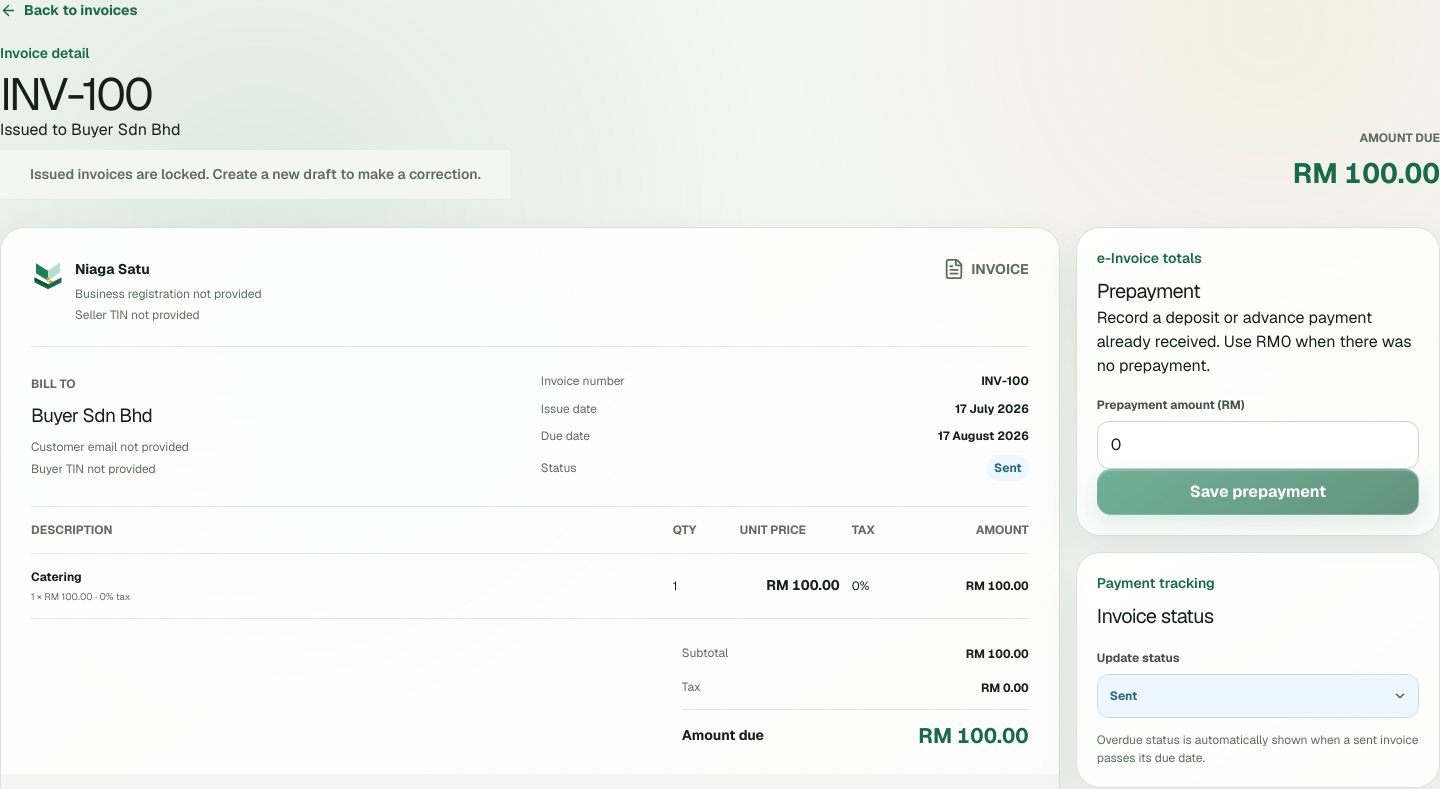
Scenario: InvoiceDetail prepayment › allows a prepayment to be added to an existing sent source invoice
The width and height of the screenshot is (1440, 789).
Replace the text in the number field labelled "Prepayment amount (RM)" with "25" at (1258, 445), box [1097,421,1419,469]
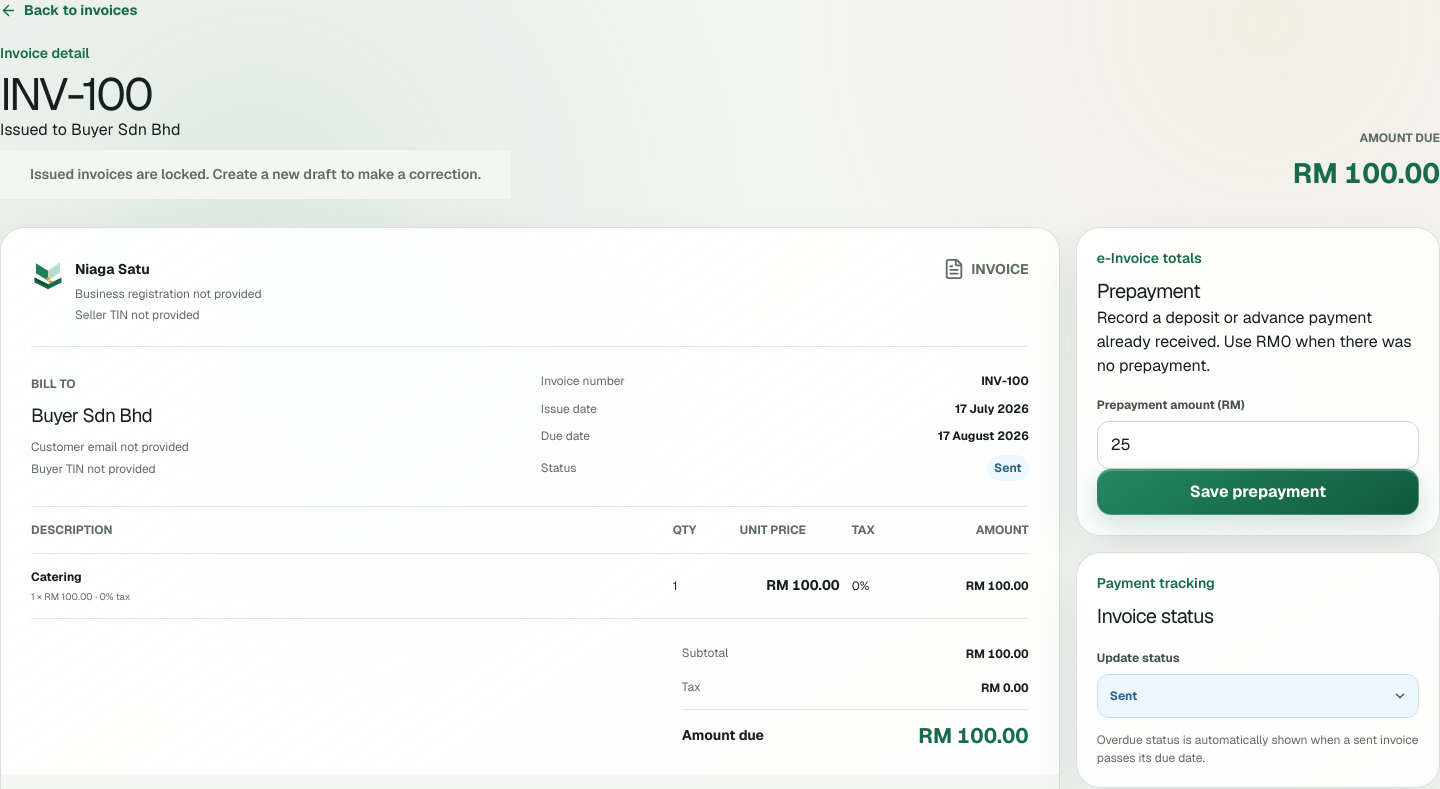
Click the button "Save prepayment".
click(1258, 492)  # box [1097,469,1419,515]
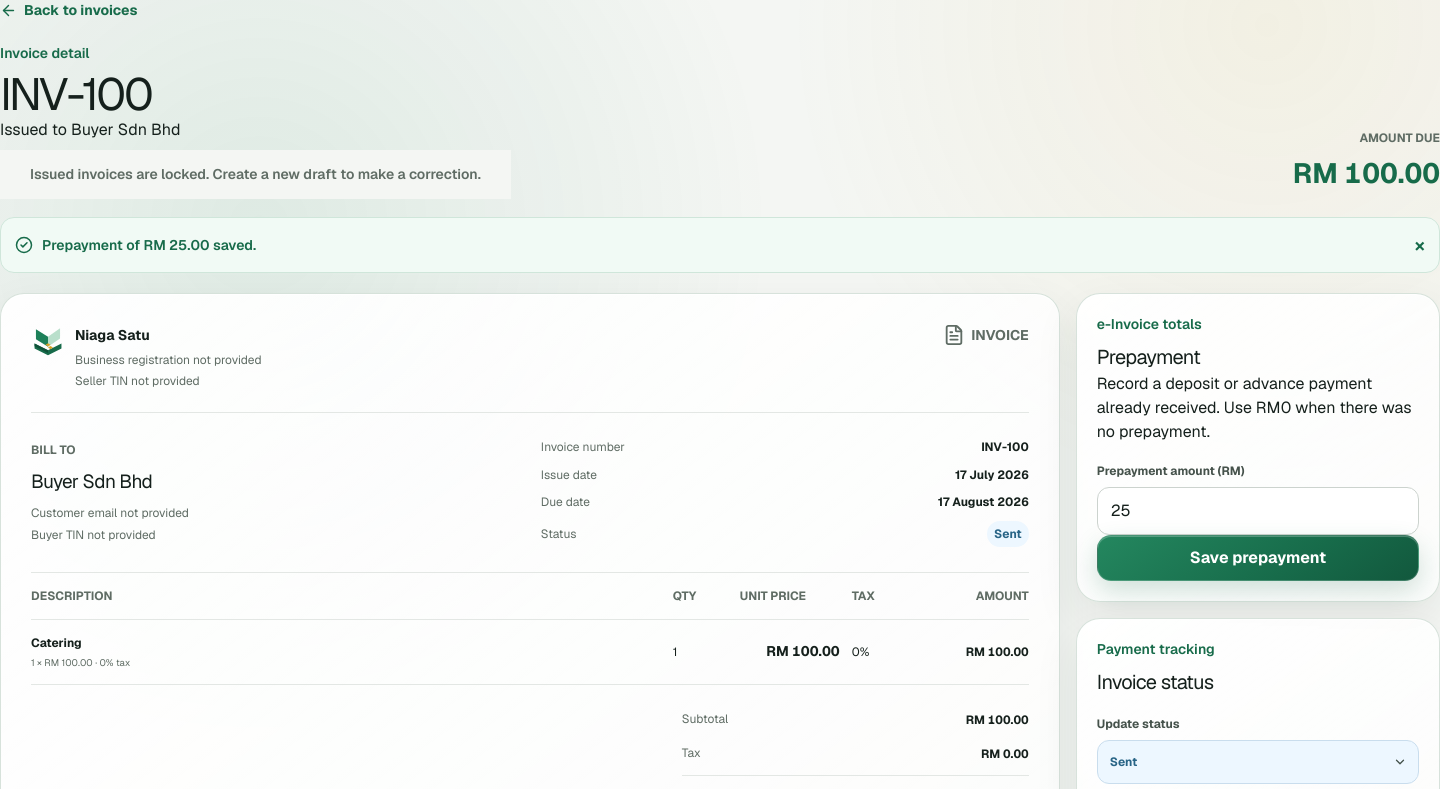
Check: the message shows "Prepayment of RM 25.00 saved", box [42,236,256,254]
